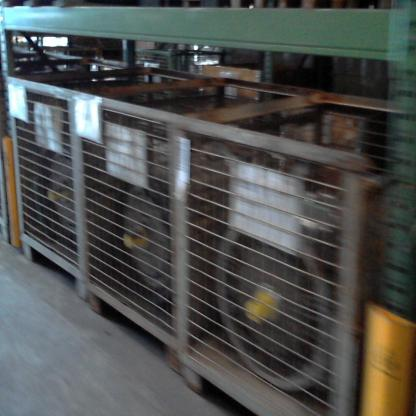stillage: (156, 80, 411, 411), (81, 67, 310, 374), (0, 51, 213, 284)
